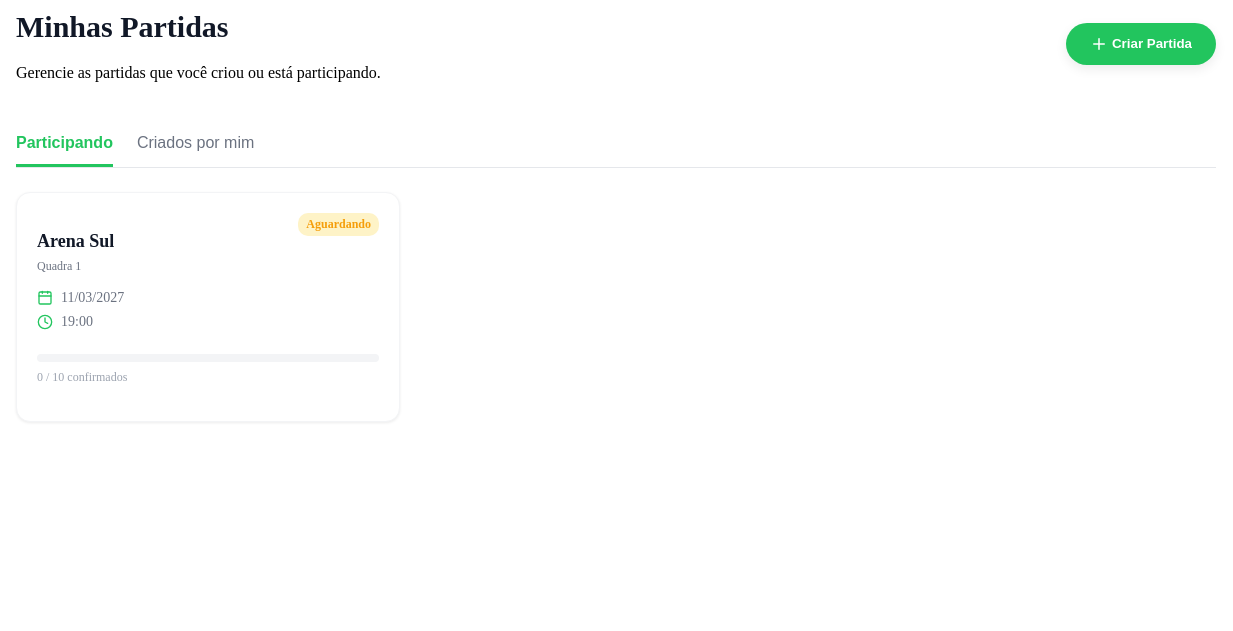
MinhasPartidas — ações de organizador › mostra a chave Pix só na aba de partidas criadas
Expected: the heading "Arena Sul" is shown, [37,231,114,252]
Expected: the text "PIX: pix@arena.com" is not shown
Click the button "Criados por mim" at (196, 145), box [137,122,254,167]
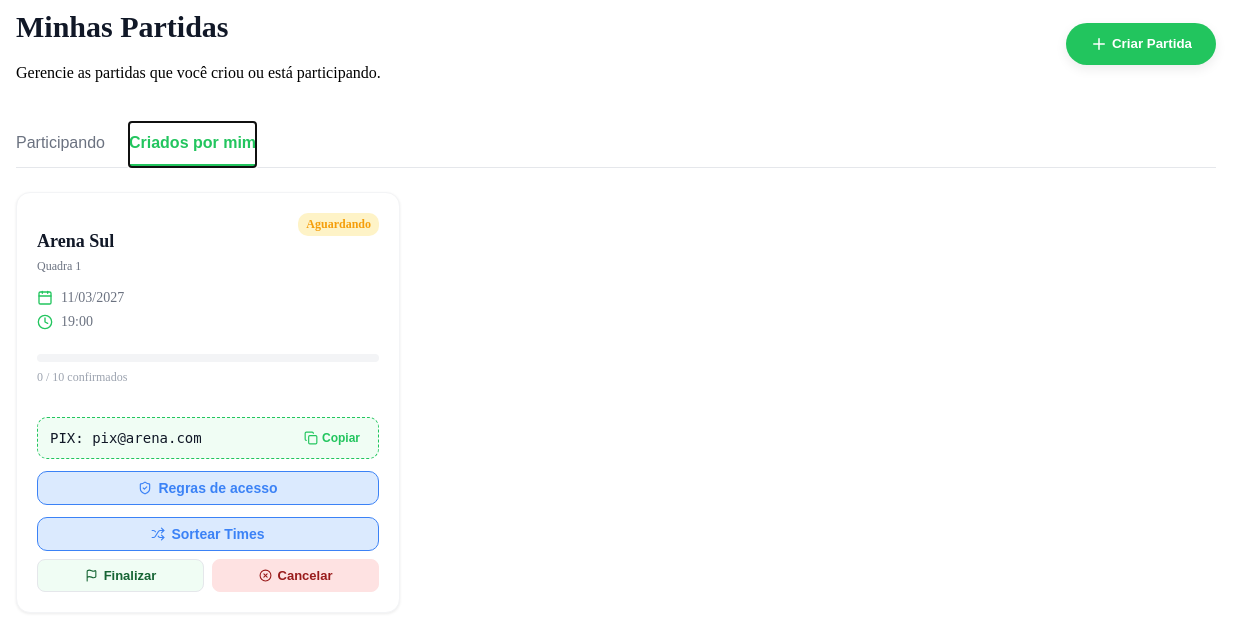
Result: the text "PIX: pix@arena.com" is shown at [50,430,202,446]
